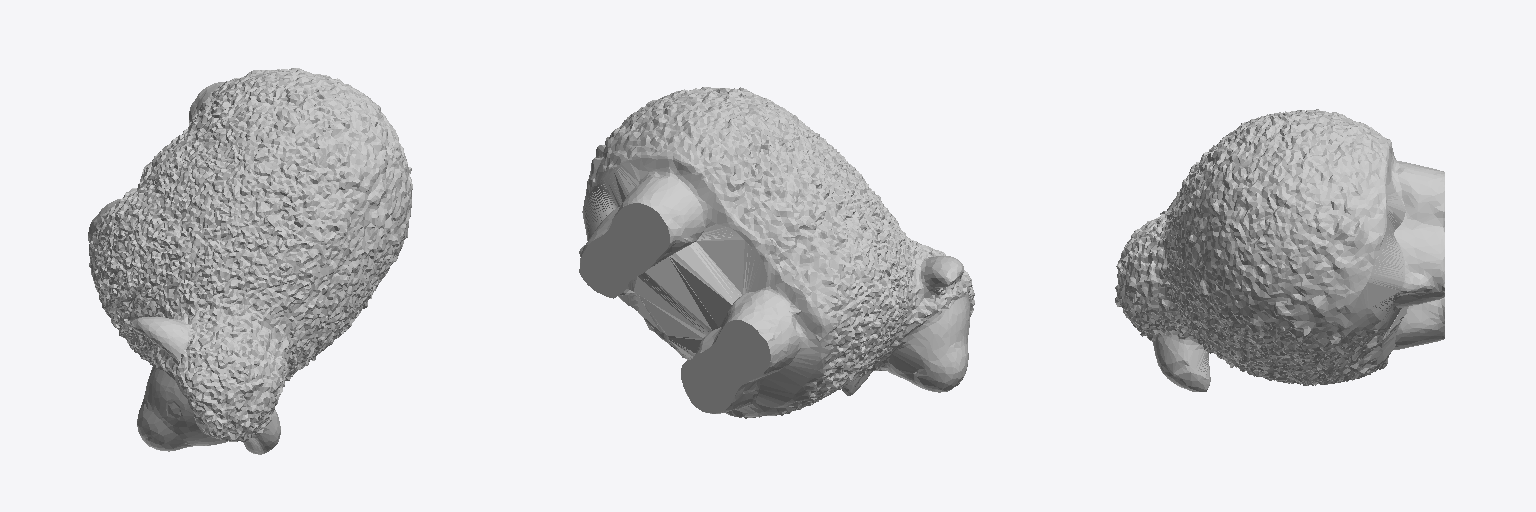
File: 208741-sheep_QEM_50pct.obj
The picture shows the model from 3 angles: view 1: azimuth 30°, elevation 25°; view 2: azimuth 150°, elevation 25°; view 3: azimuth 270°, elevation 25°; orthographic projection.
Bounding box in the file's own units: 1 × 0.9659 × 0.9206.